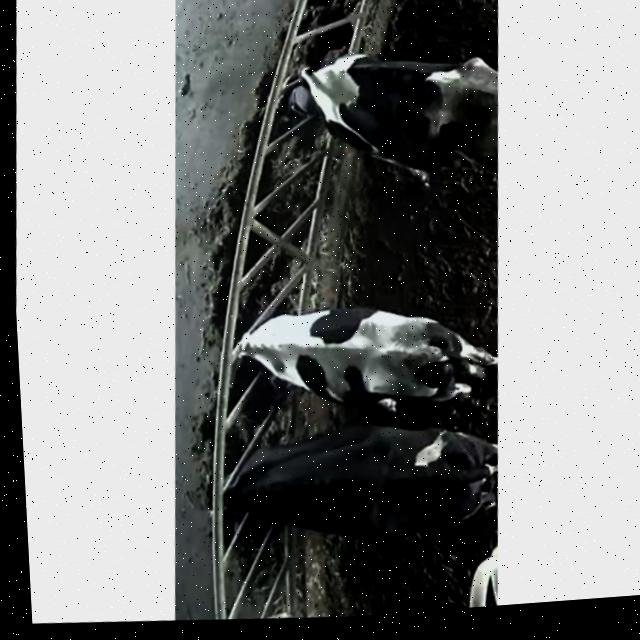eat: (201, 23, 409, 169), (171, 421, 342, 544), (180, 297, 349, 404)
